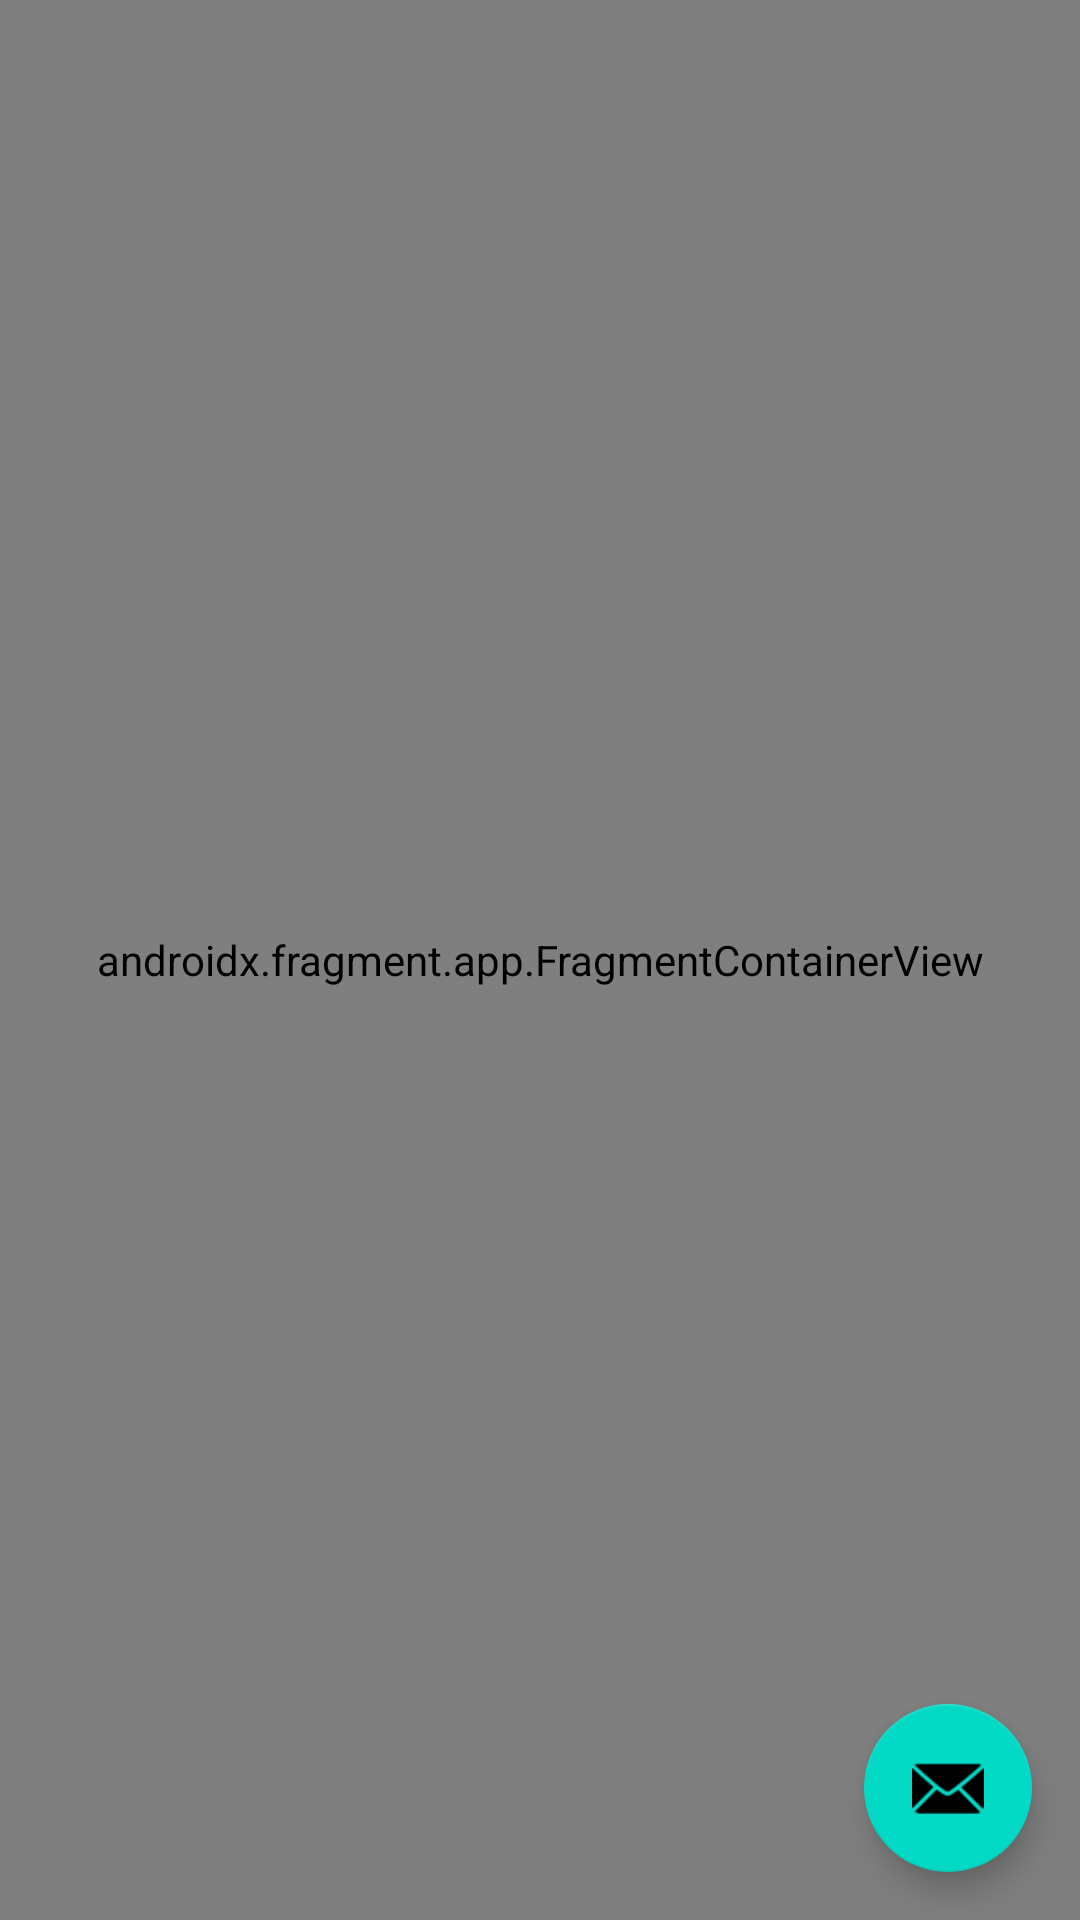

Where to tap for icons on this 1080 × 1920 app screen, as point (x, y):
Floating Button: point (948, 1788)
